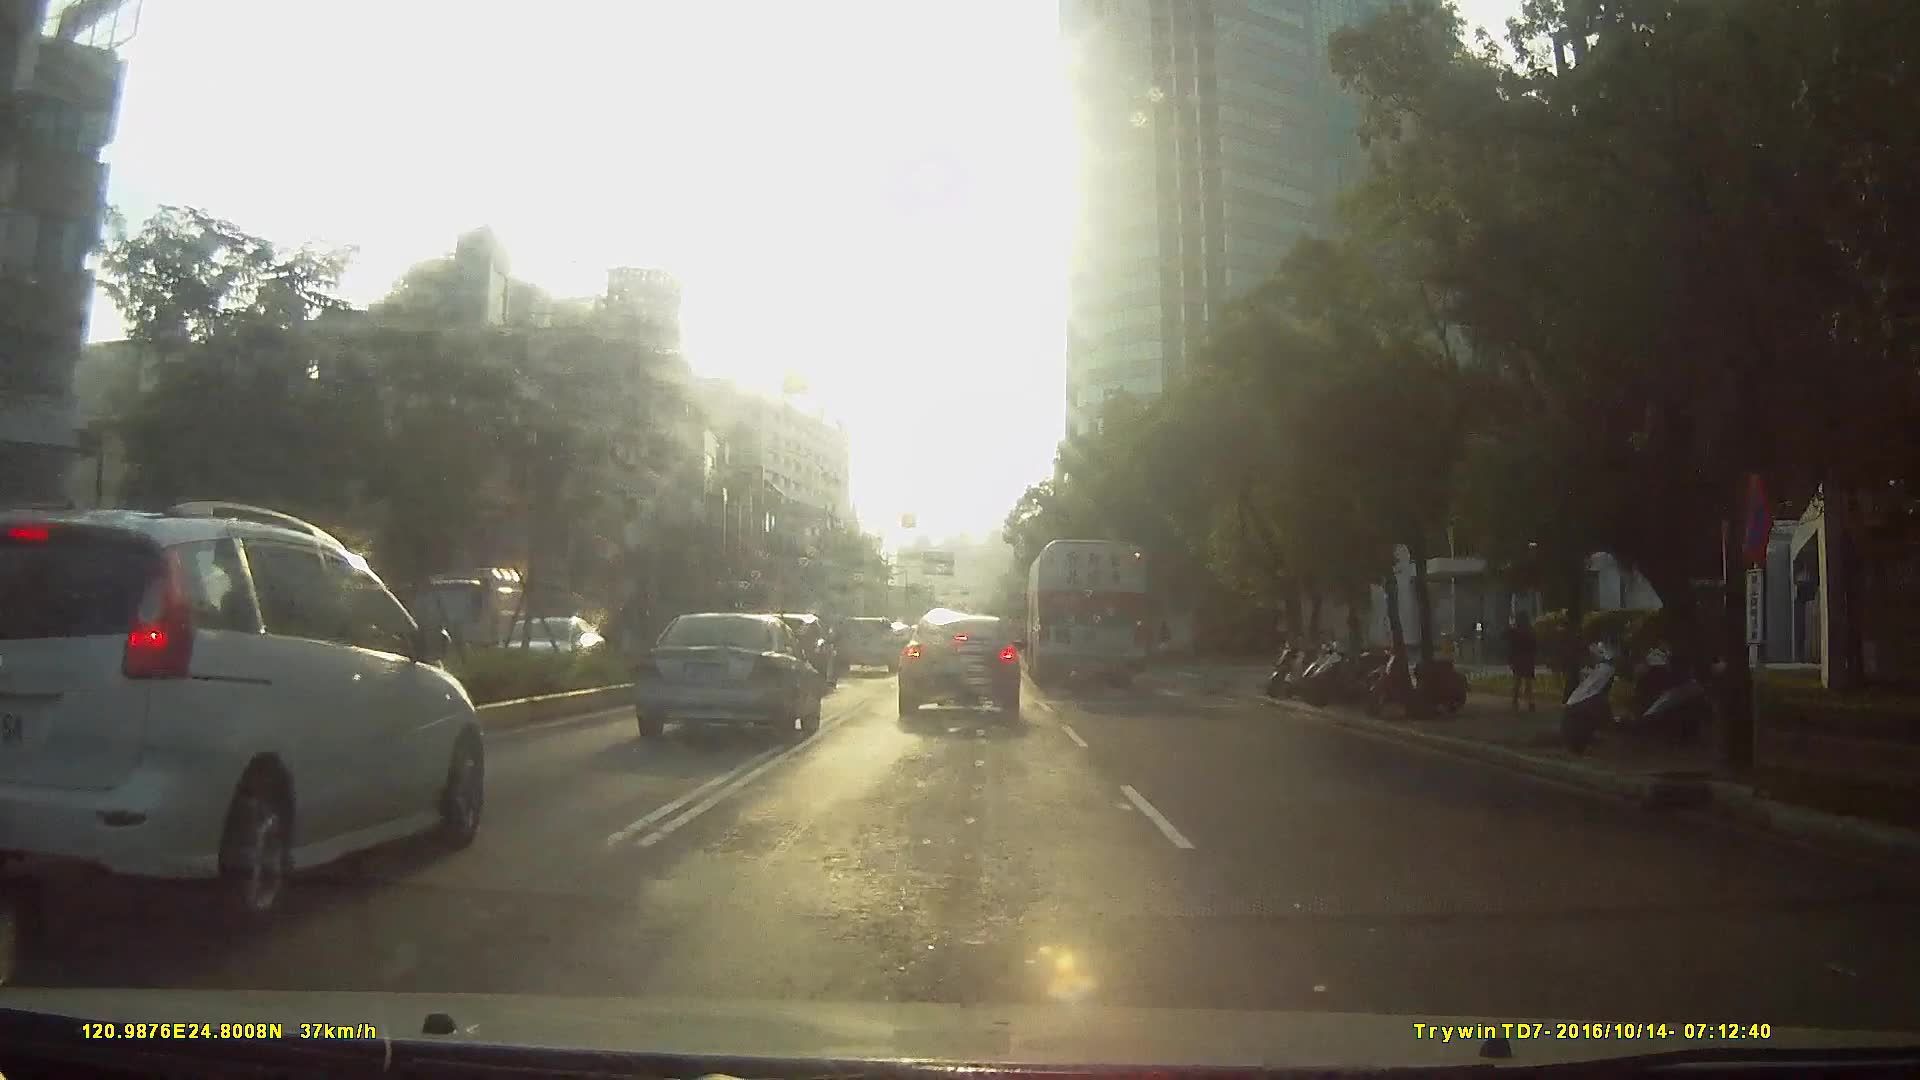pedestrian: (1503, 608, 1546, 711)
vehicle: (18, 484, 485, 942), (250, 556, 684, 868), (623, 606, 816, 743), (1022, 533, 1148, 690), (894, 605, 1023, 720), (376, 557, 507, 660), (497, 612, 609, 682), (829, 612, 897, 672)
